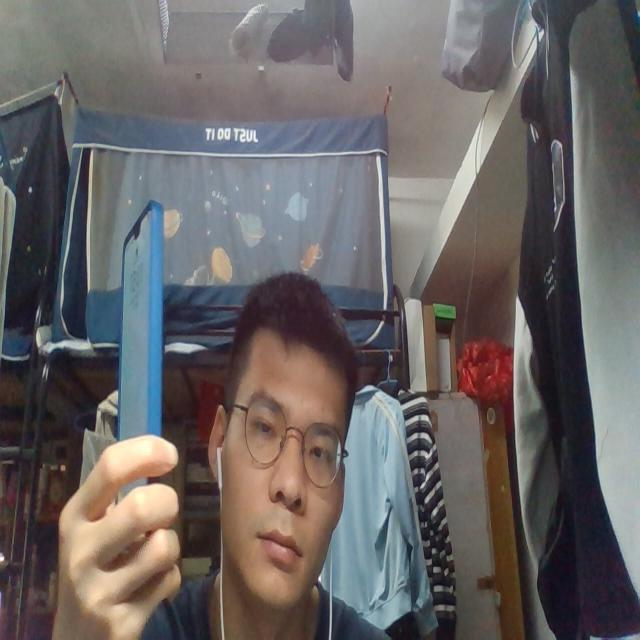phone: (116, 198, 167, 512)
